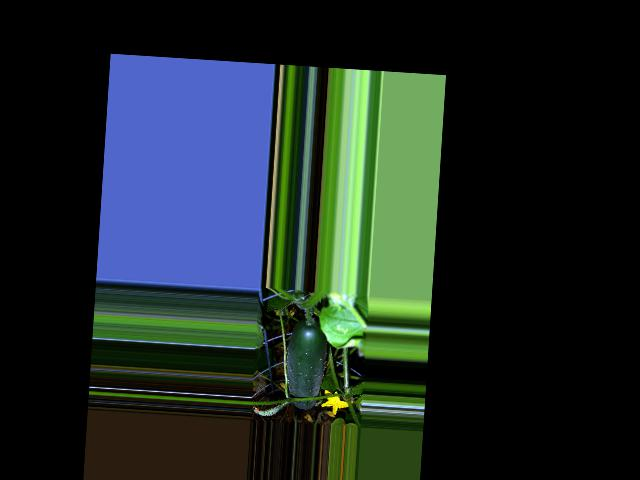cucumber: (282, 316, 328, 410)
